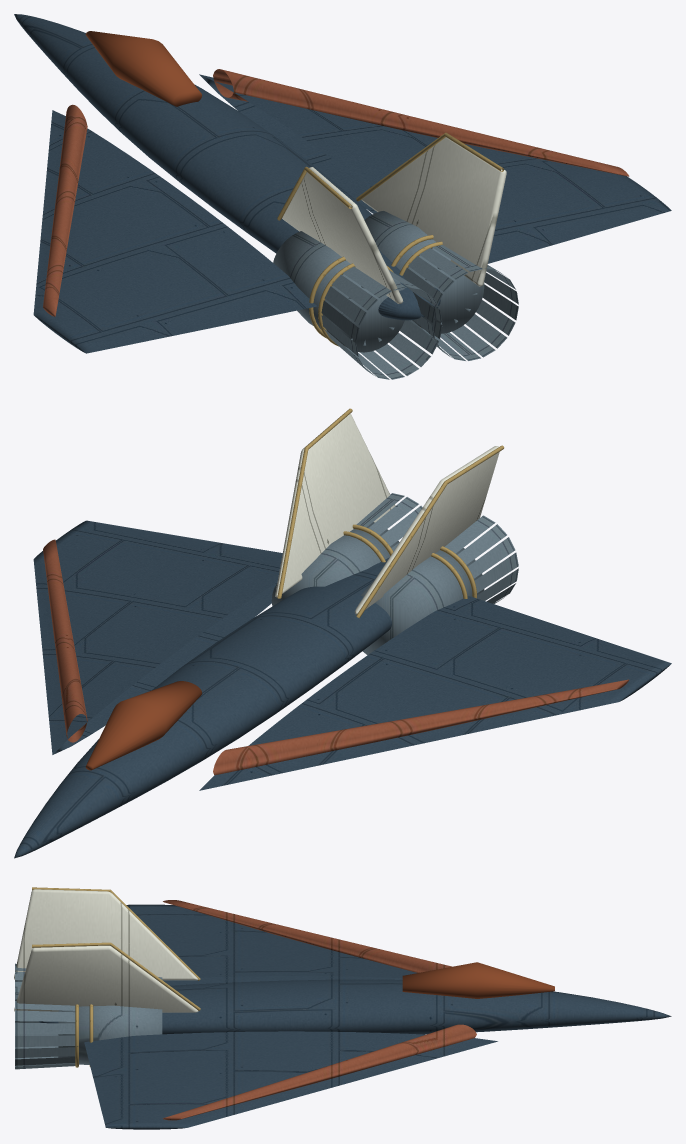
The model's file is interceptor-high.glb.
3 renders of one model, top to bottom at view 1: azimuth 30°, elevation 25°; view 2: azimuth 150°, elevation 25°; view 3: azimuth 270°, elevation 25°, orthographic. The views are drawn at different scales.
Parts seen in each view (by area): view 1: navy-surfaces, titanium-surfaces, ceramic-surfaces, hostile-surfaces, enemyglass-surfaces, brass-surfaces; view 2: navy-surfaces, ceramic-surfaces, titanium-surfaces, hostile-surfaces, enemyglass-surfaces, brass-surfaces; view 3: navy-surfaces, ceramic-surfaces, hostile-surfaces, titanium-surfaces, enemyglass-surfaces, brass-surfaces.
Part boxes in pixels (bbox=[...]): navy-surfaces: bbox=[14, 14, 671, 353]; titanium-surfaces: bbox=[273, 211, 518, 379]; ceramic-surfaces: bbox=[282, 137, 506, 303]; hostile-surfaces: bbox=[43, 69, 629, 316]; enemyglass-surfaces: bbox=[85, 31, 202, 106]; brass-surfaces: bbox=[277, 132, 504, 346]; navy-surfaces: bbox=[14, 520, 671, 858]; ceramic-surfaces: bbox=[275, 413, 499, 614]; titanium-surfaces: bbox=[271, 493, 518, 655]; hostile-surfaces: bbox=[43, 539, 628, 775]; enemyglass-surfaces: bbox=[85, 681, 201, 770]; brass-surfaces: bbox=[277, 408, 504, 618]; navy-surfaces: bbox=[39, 904, 671, 1129]; ceramic-surfaces: bbox=[14, 889, 198, 1012]; hostile-surfaces: bbox=[163, 900, 476, 1120]; titanium-surfaces: bbox=[15, 963, 162, 1069]; enemyglass-surfaces: bbox=[402, 962, 554, 998]; brass-surfaces: bbox=[32, 887, 200, 1067].
Size of the model in its own units: 4.8 by 1.36 by 6.03.
Materials: 7 (6 with a texture image).
